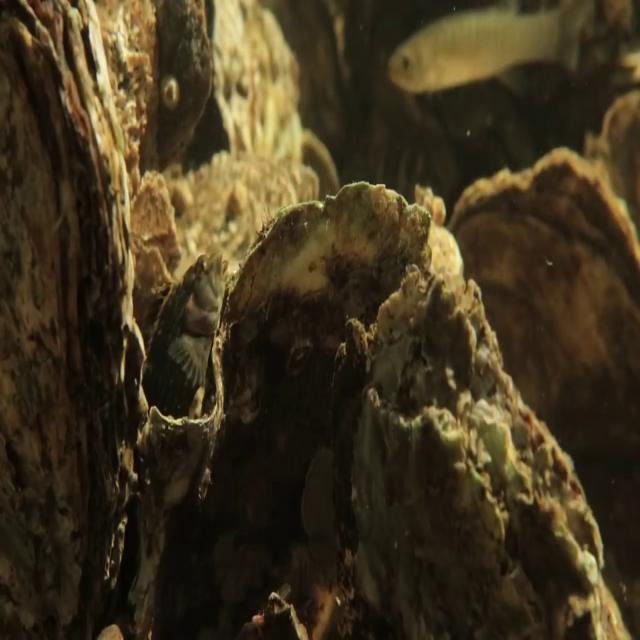Oyster-Closed: (219, 170, 457, 537), (4, 1, 137, 614), (447, 132, 638, 491), (346, 377, 548, 636)
Oyster-Indeterminate: (271, 262, 639, 639)
